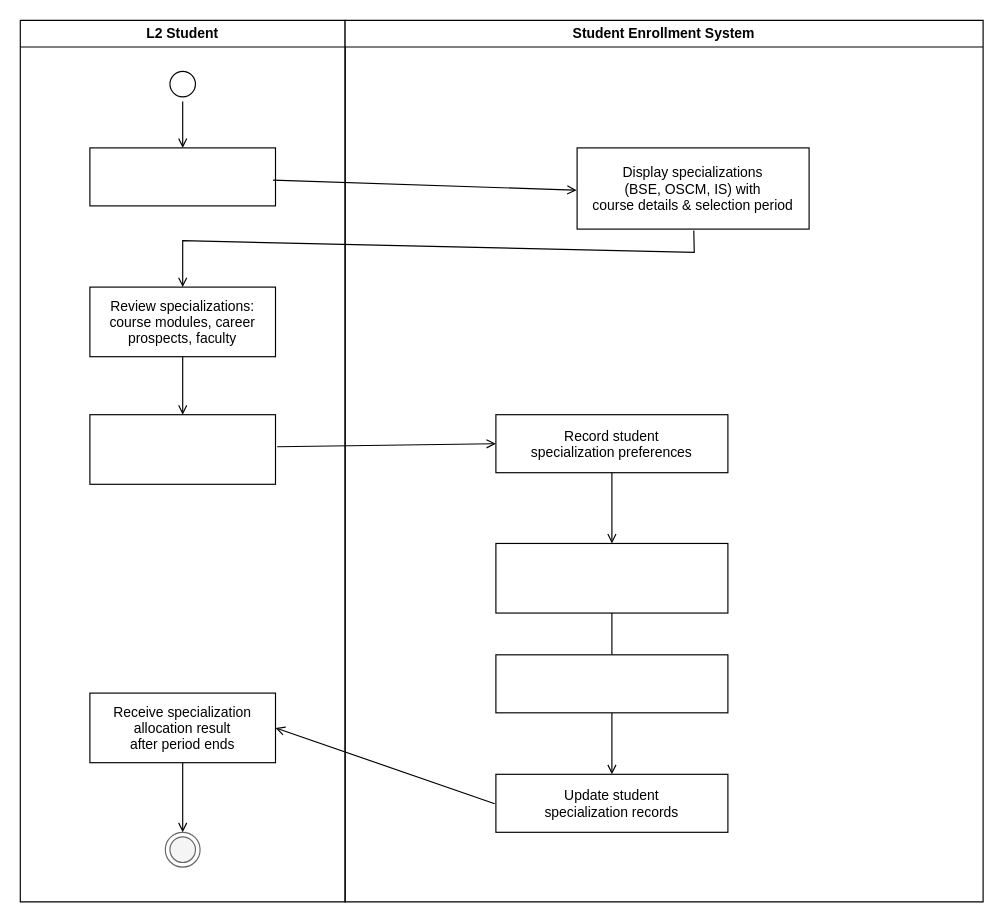
The diagram is 1003 pixels wide and 922 high, and some of its shapes have lost their labels. The centre of each missing label's shape, as x and y in pixels:
"Access specialization selection interface" goes at [182,176].
"Allocate Specializations" goes at [611,683].
"Bulk Process All Student Preferences (After Period Ends)" goes at [611,577].
"Submit specialization preferences (BSE/OSCM/IS)" goes at [182,449].
